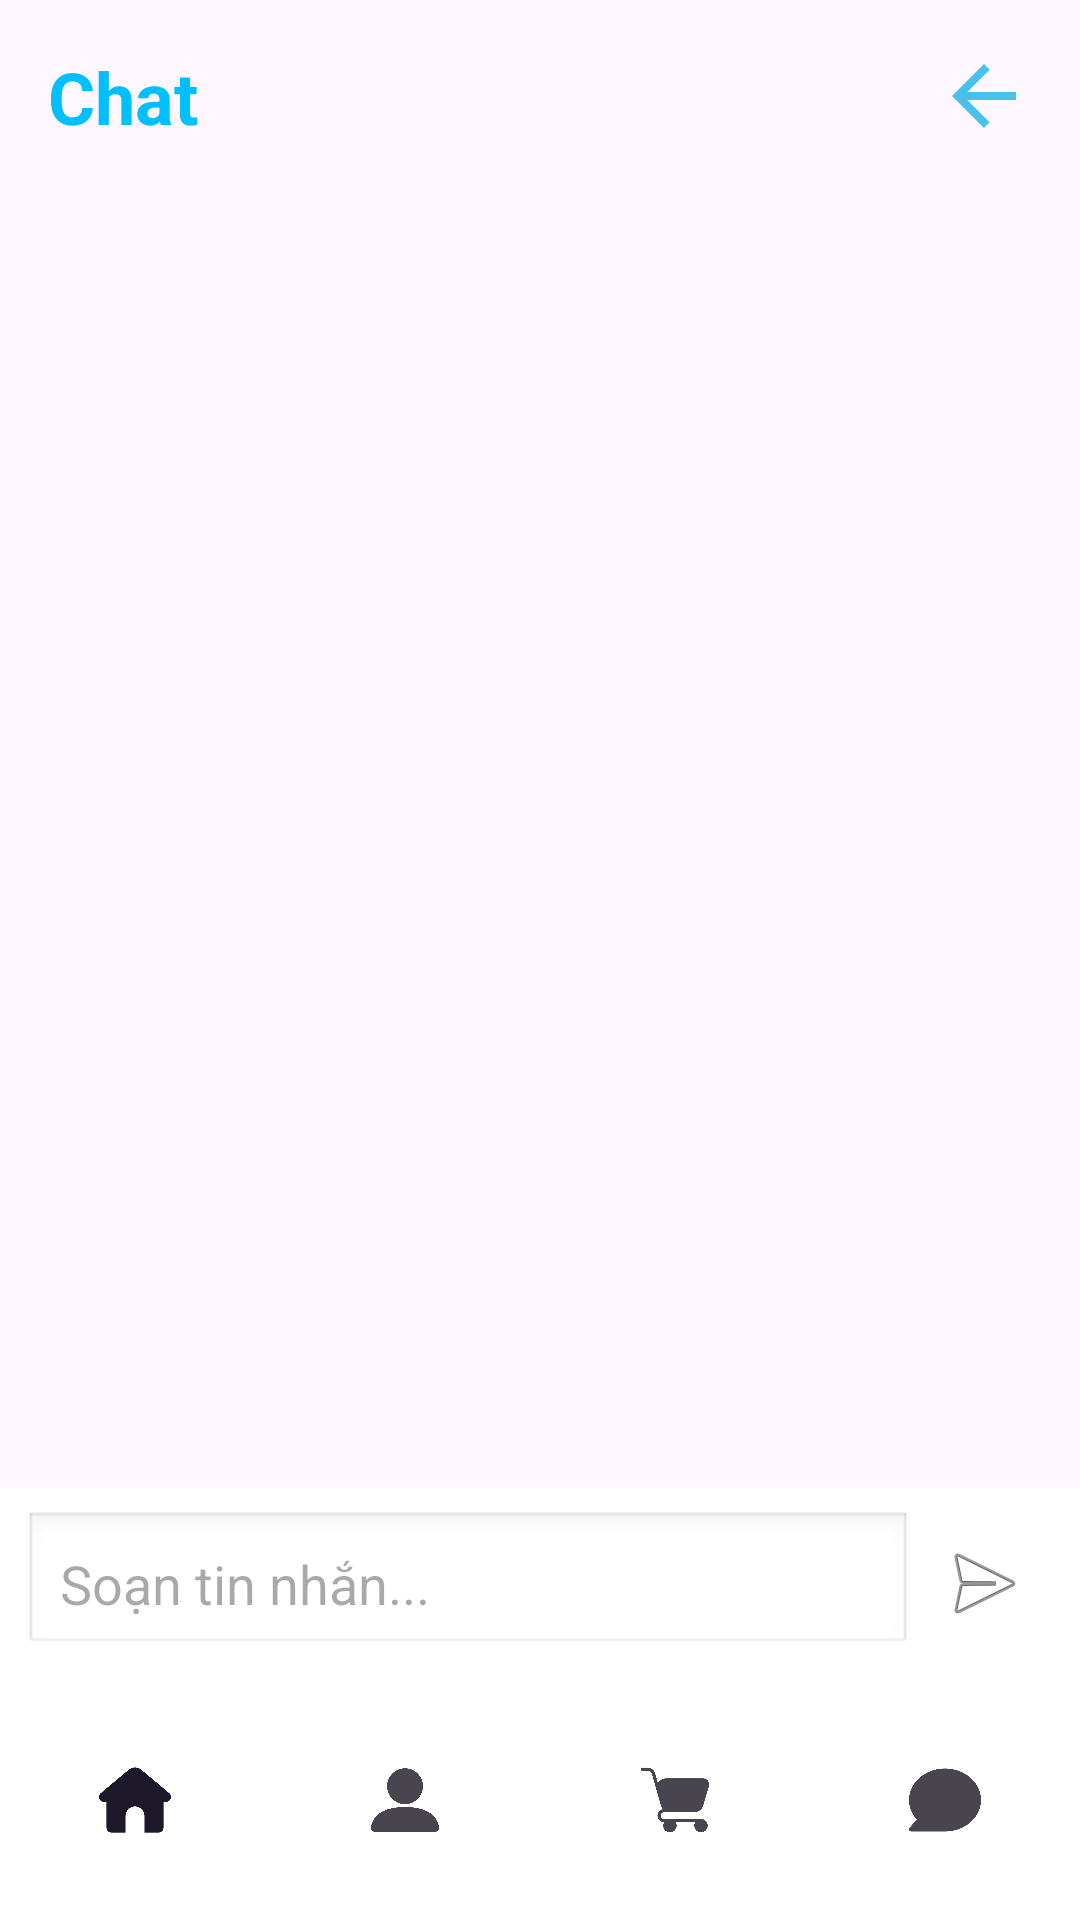

Named icons in this screenshot (1080×1920) and their bounding boxes, (x1, y1, x2, y2):
arrow back: (952, 64, 1016, 128)
Gửi: (954, 1553, 1016, 1614)
